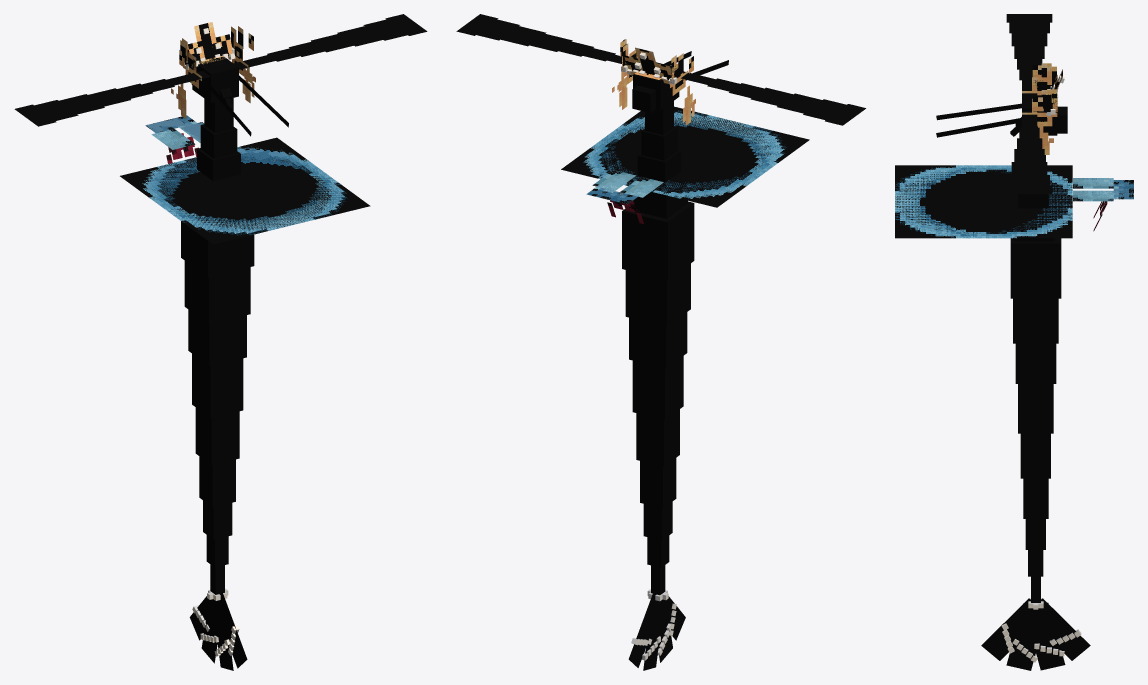
File: test-milotic.glb
3 renders of one model, left to right at view 1: azimuth 30°, elevation 25°; view 2: azimuth 150°, elevation 25°; view 3: azimuth 270°, elevation 25°, orthographic. The views are drawn at different scales.
Parts seen in each view (by area): view 1: neck, tail1, head_angle, tail3, torso, tail2, neck3, tail4, tail5, crown, neck2, tail6 (+2 smaller); view 2: neck, torso, tail1, head_angle, tail3, tail2, neck3, tail4, tail5, neck2, tail6, crown (+2 smaller); view 3: neck, torso, head_angle, tail1, tail3, tail2, tail_fin, tail4, tail_fin6, neck3, tail5, tail_fin2 (+13 smaller).
Boxes of the visible parts, box(x1,y1,x2,y2) form: neck: box(120, 137, 370, 244); tail1: box(184, 261, 250, 324); head_angle: box(171, 26, 255, 118); tail3: box(192, 354, 243, 417); torso: box(181, 221, 254, 277); tail2: box(188, 309, 246, 366); neck3: box(145, 115, 237, 158); tail4: box(195, 407, 239, 464); tail5: box(199, 456, 235, 507); crown: box(185, 22, 235, 69); neck2: box(197, 148, 240, 180); tail6: box(203, 500, 232, 539); neck: box(561, 106, 809, 218); torso: box(622, 201, 694, 279); tail1: box(625, 263, 690, 326); head_angle: box(612, 39, 695, 125); tail3: box(632, 356, 683, 419); tail2: box(629, 312, 687, 368); neck3: box(586, 126, 677, 204); tail4: box(636, 409, 679, 466); tail5: box(640, 458, 676, 508); neck2: box(637, 150, 681, 182); tail6: box(643, 501, 672, 540); crown: box(624, 47, 674, 85); neck: box(895, 165, 1072, 241); torso: box(1010, 238, 1061, 298); head_angle: box(1022, 63, 1067, 154); tail1: box(1013, 298, 1058, 343); tail3: box(1018, 384, 1053, 433); tail2: box(1015, 343, 1056, 383); tail_fin: box(981, 598, 1047, 660); tail4: box(1020, 433, 1050, 478); tail_fin6: box(1026, 598, 1090, 660); neck3: box(1044, 155, 1133, 201); tail5: box(1023, 478, 1048, 518); tail_fin2: box(1006, 603, 1041, 670).
Bounding box in the file's own units: 5.25 × 8.13 × 2.94.
Materials: 1 (1 with a texture image).
